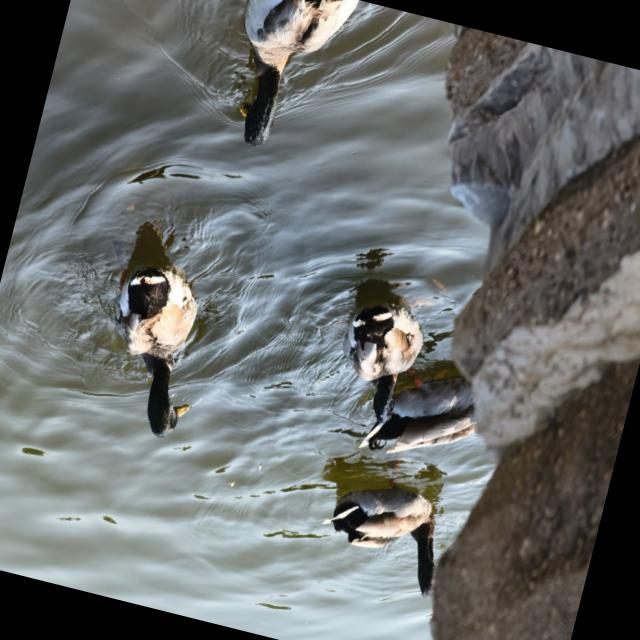duck: (80, 254, 222, 446), (209, 0, 362, 165), (312, 466, 461, 600), (355, 349, 483, 481), (323, 288, 433, 424)
